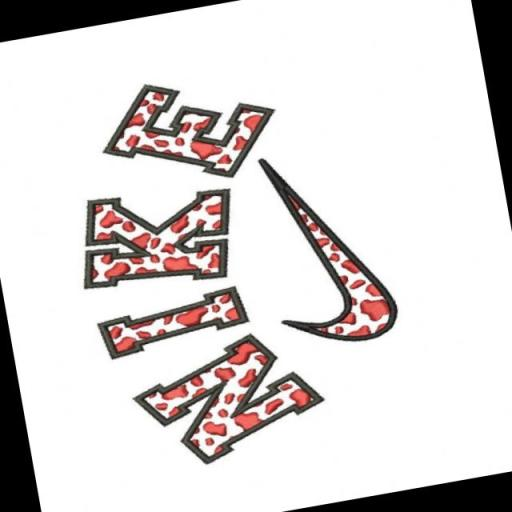Nike: (273, 166, 399, 349)
